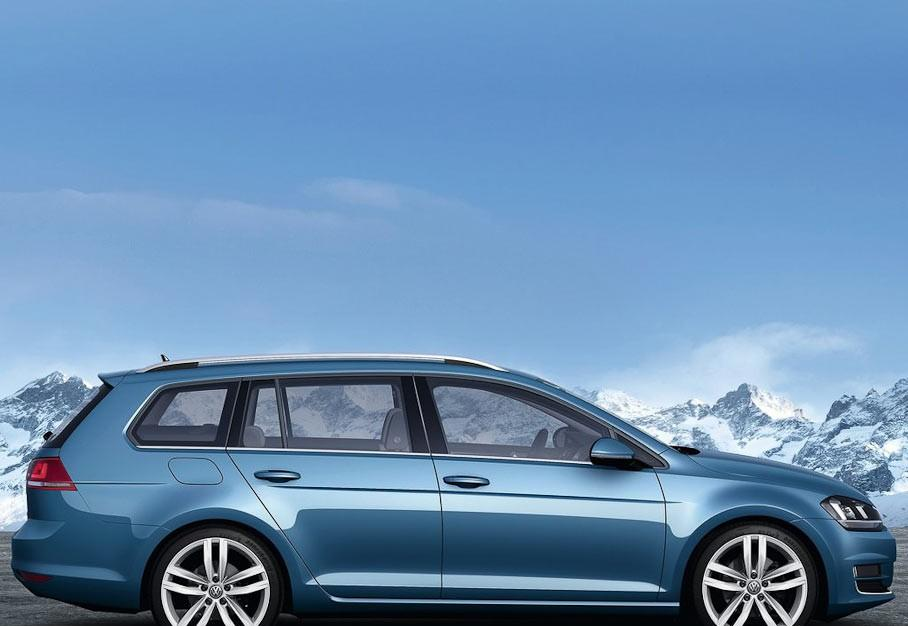Wagon: (10, 352, 897, 626)
